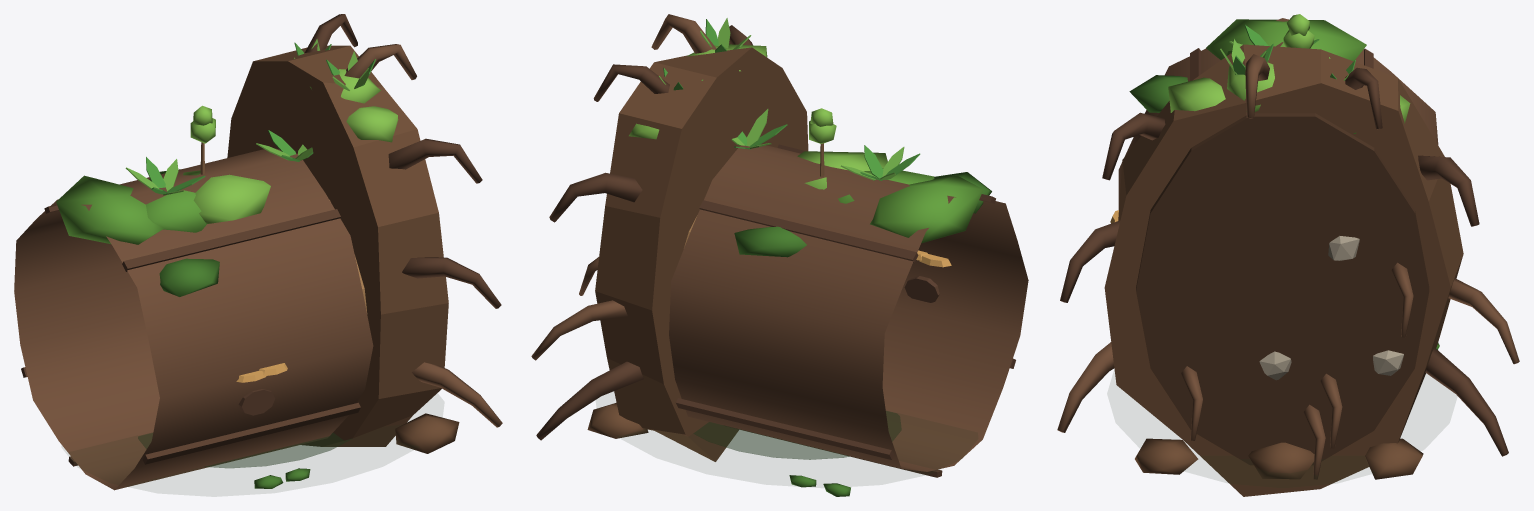
File: fallen_trunk_end.glb
3 renders of one model, left to right at view 1: azimuth 30°, elevation 25°; view 2: azimuth 150°, elevation 25°; view 3: azimuth 270°, elevation 25°, orthographic. The views are drawn at different scales.
Visible parts, largest first — view 1: fallen_trunk_end; view 2: fallen_trunk_end; view 3: fallen_trunk_end.
Boxes of the visible parts, x1,y1,x2,y2 form: fallen_trunk_end: (14,14,502,490); fallen_trunk_end: (531,14,1028,496); fallen_trunk_end: (1057,14,1519,496).
Size of the model in its own units: 4.27 by 4.62 by 4.34.
